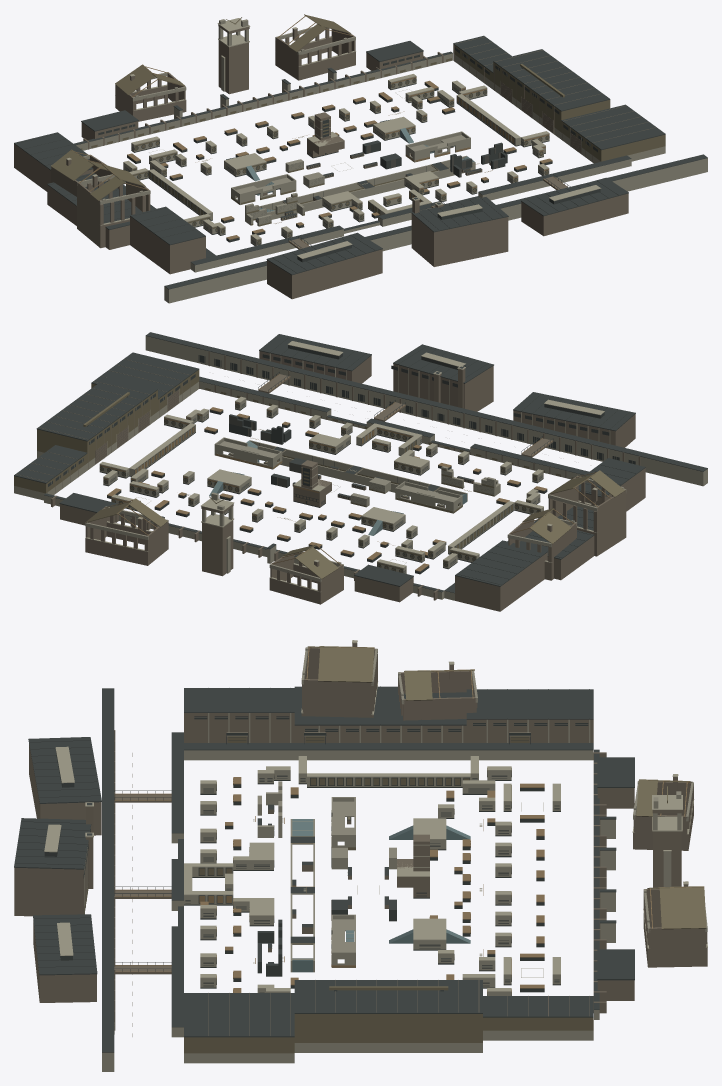
The model's file is undertow-architecture.glb.
3 renders of one model, top to bottom at view 1: azimuth 30°, elevation 25°; view 2: azimuth 150°, elevation 25°; view 3: azimuth 270°, elevation 25°, orthographic. The views are drawn at different scales.
Visible parts, largest first — view 1: undertow-original-architecture; view 2: undertow-original-architecture; view 3: undertow-original-architecture.
Part boxes in pixels (x1,y1,x2,y2): undertow-original-architecture: [14, 14, 707, 303]; undertow-original-architecture: [14, 332, 707, 611]; undertow-original-architecture: [14, 640, 707, 1071].
Bounding box in the file's own units: 210 × 29.45 × 169.
